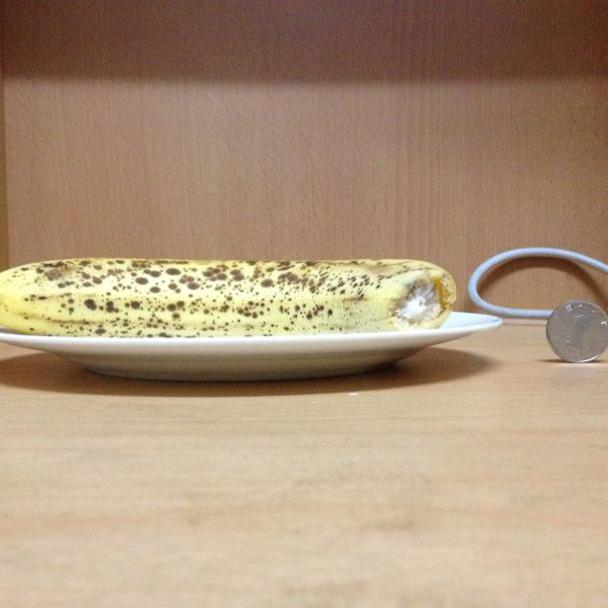banana: (4, 254, 455, 331)
